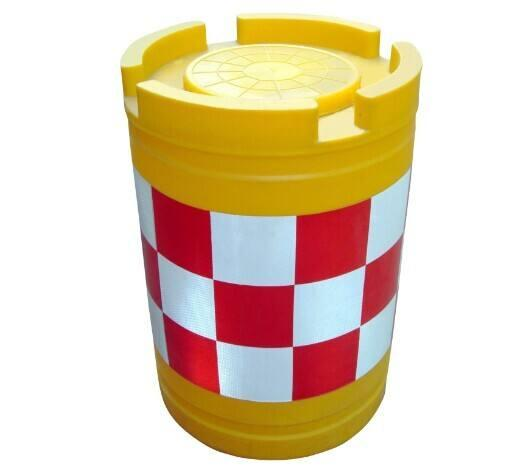sign: (105, 12, 422, 463)
